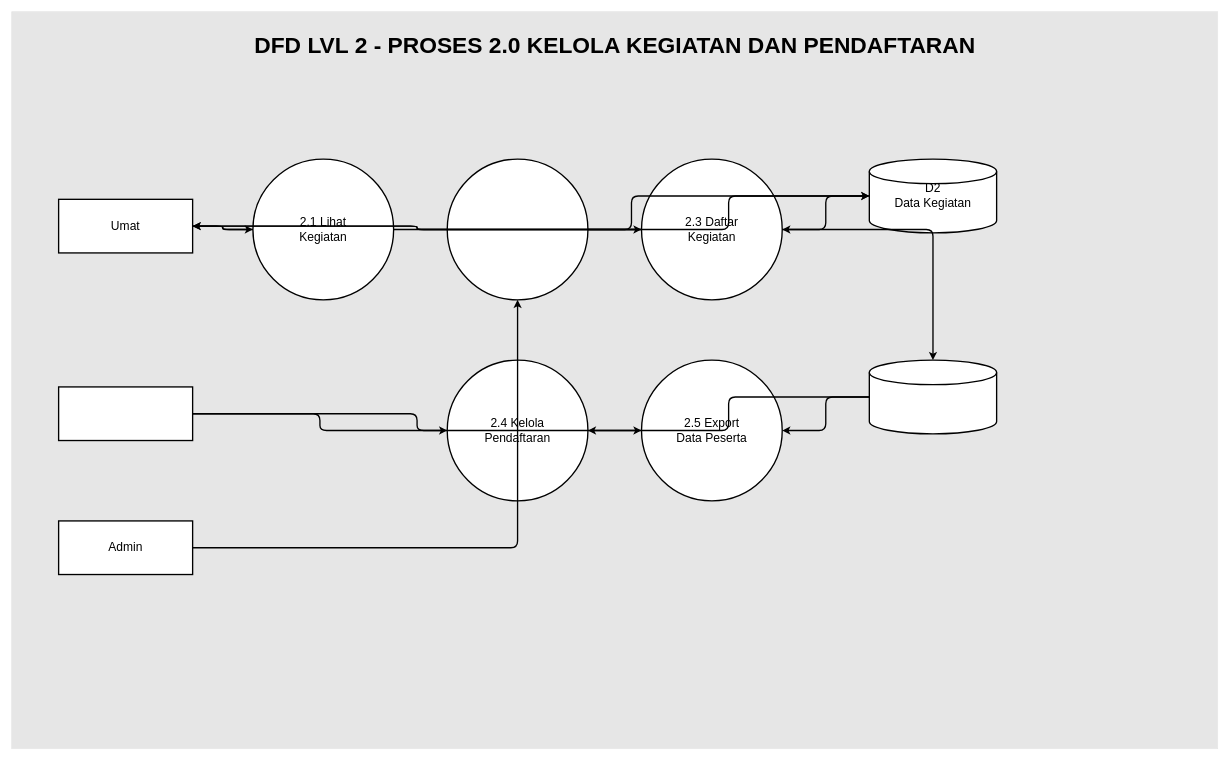
The diagram is 1229 pixels wide and 760 high, and some of its shapes have lost their labels. The shapes that lost their labels are listed below. From the top down, each one's centre as x and y in pixels, then its label:
At (x=517, y=229): "2.2 Kelola Kegiatan".
At (x=125, y=413): "Petugas".
At (x=932, y=396): "D3 Data Pendaftaran".
